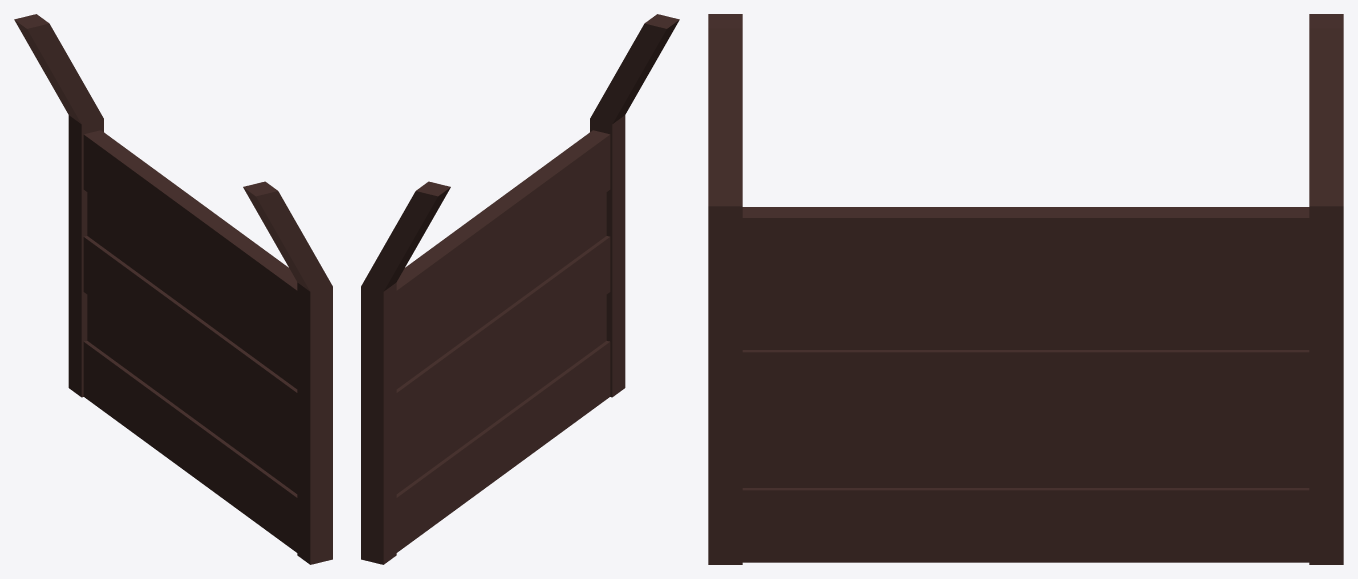
Rendered from Wall.glb.
3 views of the same model, side by side, from view 1: azimuth 30°, elevation 25°; view 2: azimuth 150°, elevation 25°; view 3: azimuth 270°, elevation 25° (orthographic). The views are drawn at different scales.
Parts seen in each view (by area): view 1: Wall; view 2: Wall; view 3: Wall.
Part boxes in pixels (box(x1,y1,x2,y2)): Wall: box(14, 14, 332, 564); Wall: box(361, 14, 679, 564); Wall: box(708, 14, 1343, 564).
Size of the model in its own units: 2.93 by 13.86 by 15.9.
